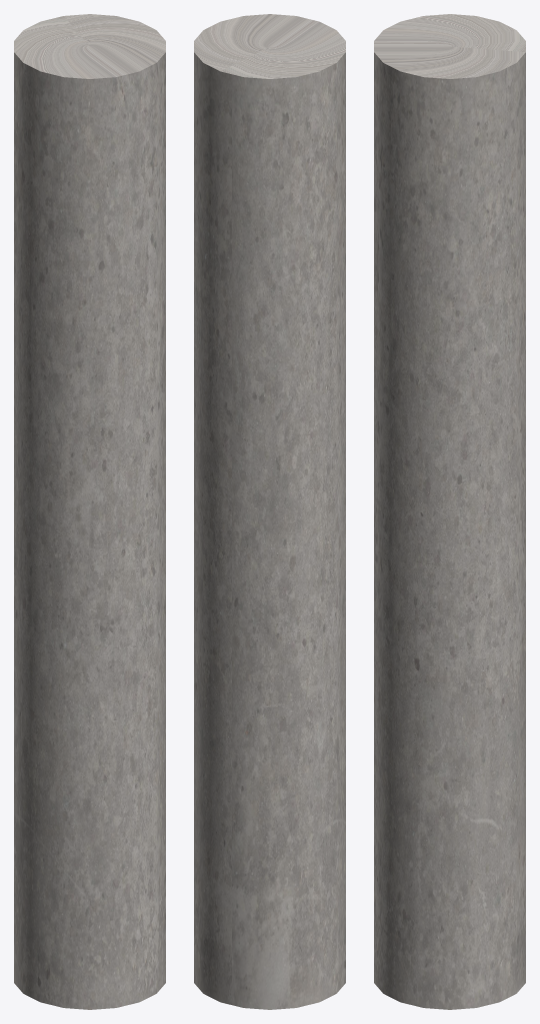
Rendered from Support Pillar Untextured.fbx.
3 views of the same model, side by side, from view 1: azimuth 30°, elevation 25°; view 2: azimuth 150°, elevation 25°; view 3: azimuth 270°, elevation 25° (orthographic).
Visible parts, largest first — view 1: Cylinder001; view 2: Cylinder001; view 3: Cylinder001.
Boxes of the visible parts, x1=… form: Cylinder001: x1=14, y1=14, x2=165, y2=1009; Cylinder001: x1=194, y1=14, x2=345, y2=1009; Cylinder001: x1=374, y1=14, x2=525, y2=1009.
Size of the model in its own units: 11.81 by 78.74 by 11.63.
1 material, 1 textured.
